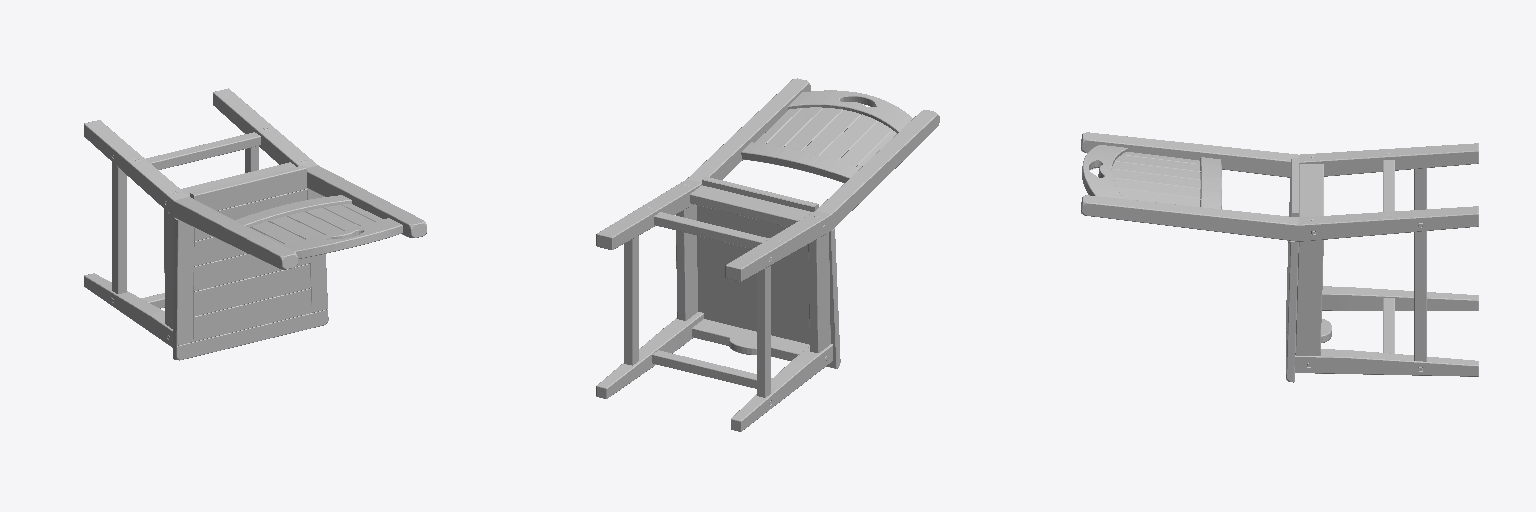
File: Chair.obj
3 views of the same model, side by side, from view 1: azimuth 30°, elevation 25°; view 2: azimuth 150°, elevation 25°; view 3: azimuth 270°, elevation 25° (orthographic).
Visible parts, largest first — view 1: Object03, Box04, Object04; view 2: Box04, Object03, Object04; view 3: Box04, Object03, Object04.
Boxes of the visible parts, x1=… form: Object03: x1=112, y1=132, x2=328, y2=360; Box04: x1=84, y1=88, x2=426, y2=347; Object04: x1=164, y1=162, x2=295, y2=328; Box04: x1=596, y1=78, x2=939, y2=431; Object03: x1=624, y1=177, x2=840, y2=397; Object04: x1=676, y1=185, x2=830, y2=360; Box04: x1=1081, y1=132, x2=1478, y2=376; Object03: x1=1286, y1=158, x2=1426, y2=382; Object04: x1=1295, y1=164, x2=1331, y2=355.
Size of the model in its own units: 420 by 472 by 950.